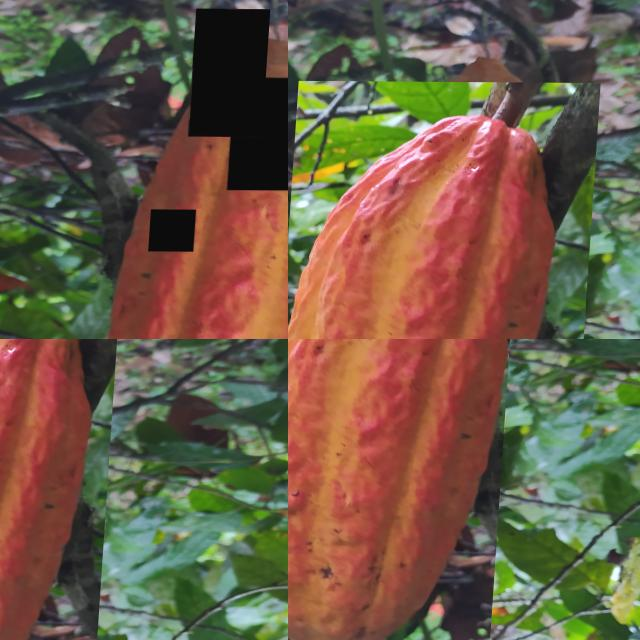Sana: (288, 80, 601, 339), (288, 339, 518, 640), (0, 339, 121, 640), (190, 8, 271, 137), (230, 77, 288, 189), (152, 209, 199, 251)
